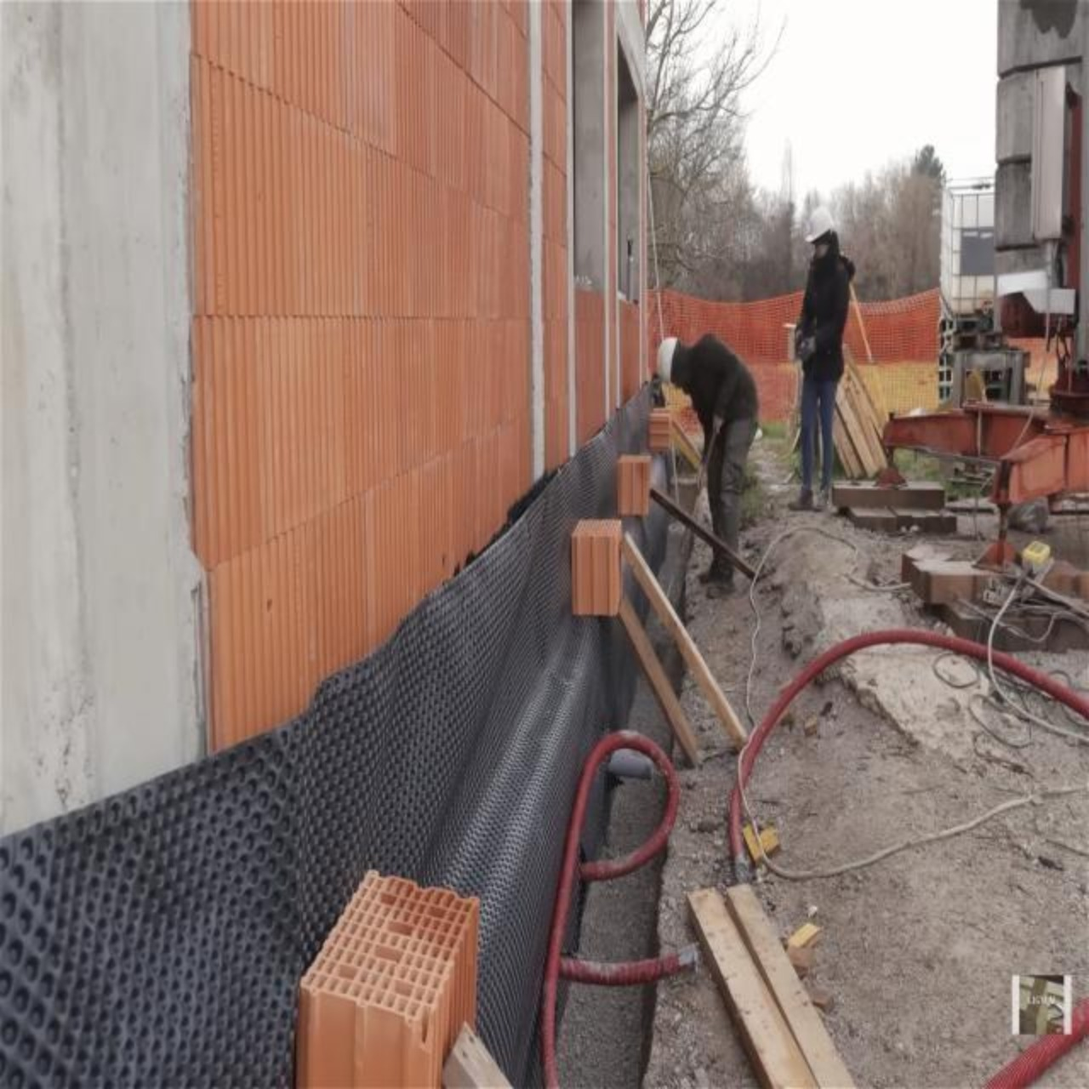helmet: (655, 329, 686, 389), (807, 204, 840, 259)
no_vest: (686, 326, 764, 436), (805, 265, 852, 375)
person: (652, 324, 764, 602), (784, 207, 852, 511)
